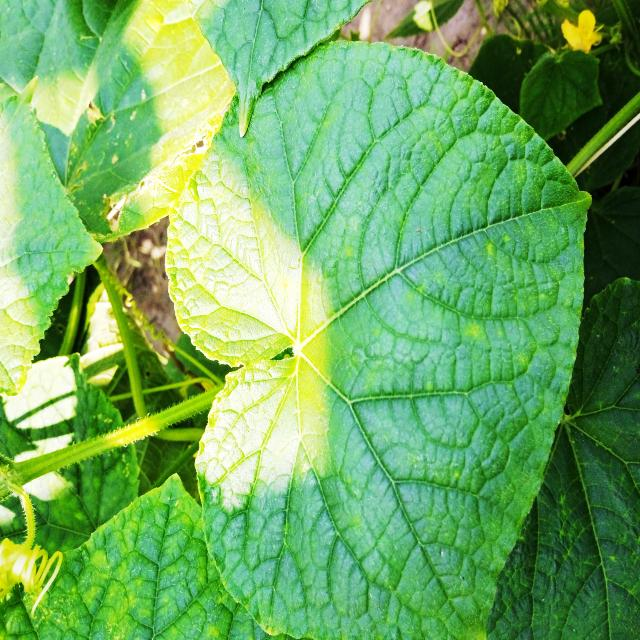Fresh-Leaf: (160, 42, 592, 640), (0, 69, 103, 394)
